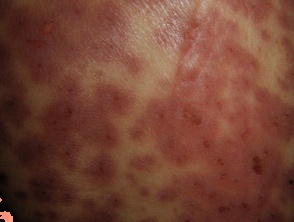SJS-TEN: (5, 0, 293, 221)
